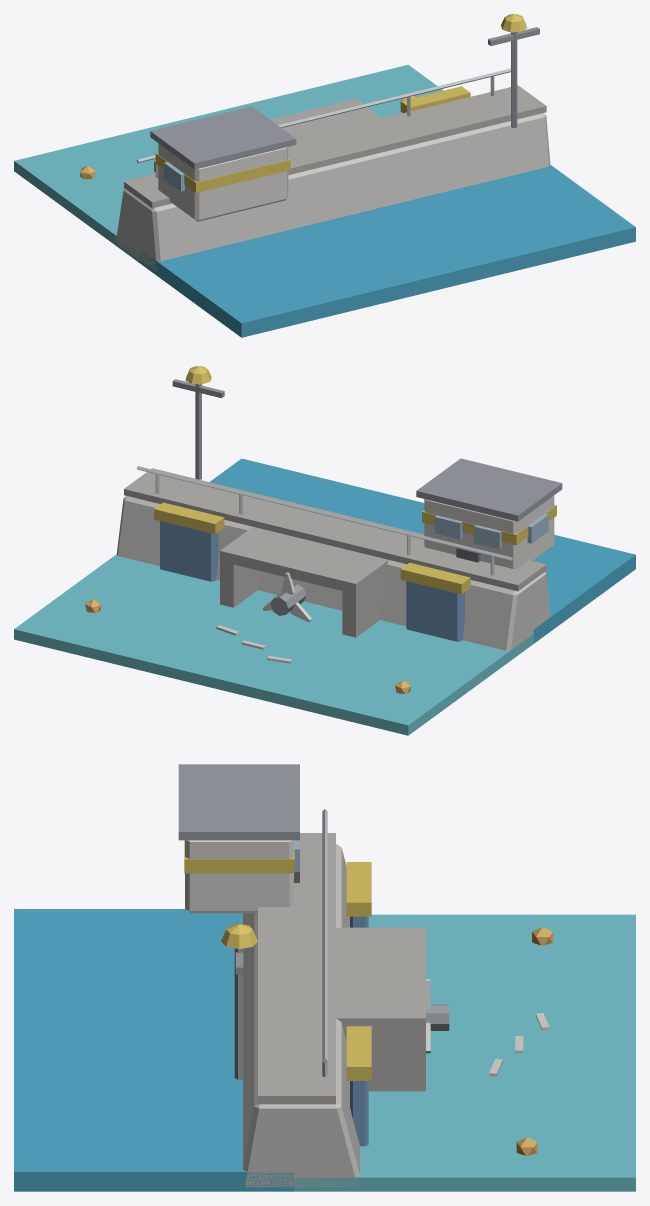
Rendered from energia__usina_mare.glb.
The picture shows the model from 3 angles, top to bottom: view 1: azimuth 30°, elevation 25°; view 2: azimuth 150°, elevation 25°; view 3: azimuth 270°, elevation 25°; orthographic projection. The views are drawn at different scales.
Parts seen in each view (by area): view 1: energia__usina_mare; view 2: energia__usina_mare; view 3: energia__usina_mare.
Boxes of the visible parts, <box> form: energia__usina_mare: <box>14,14,635,337</box>; energia__usina_mare: <box>14,366,635,735</box>; energia__usina_mare: <box>14,764,635,1191</box>.
Bounding box in the file's own units: 4 × 1.71 × 4.
